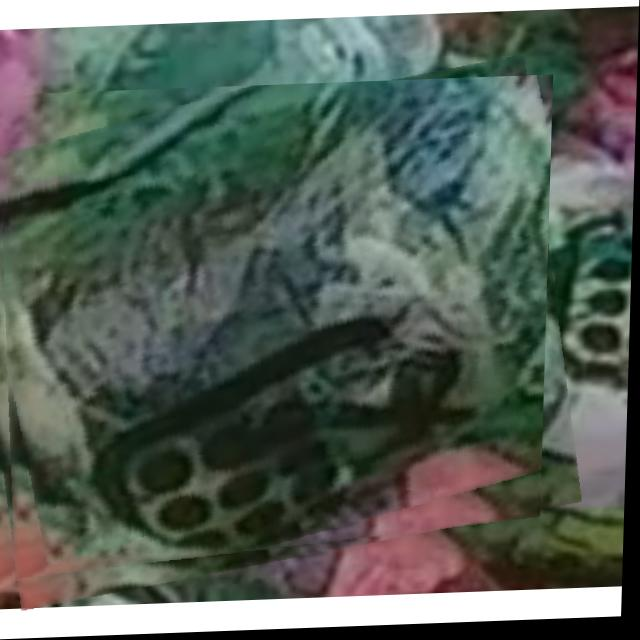general_trashbag: (2, 81, 551, 557)
